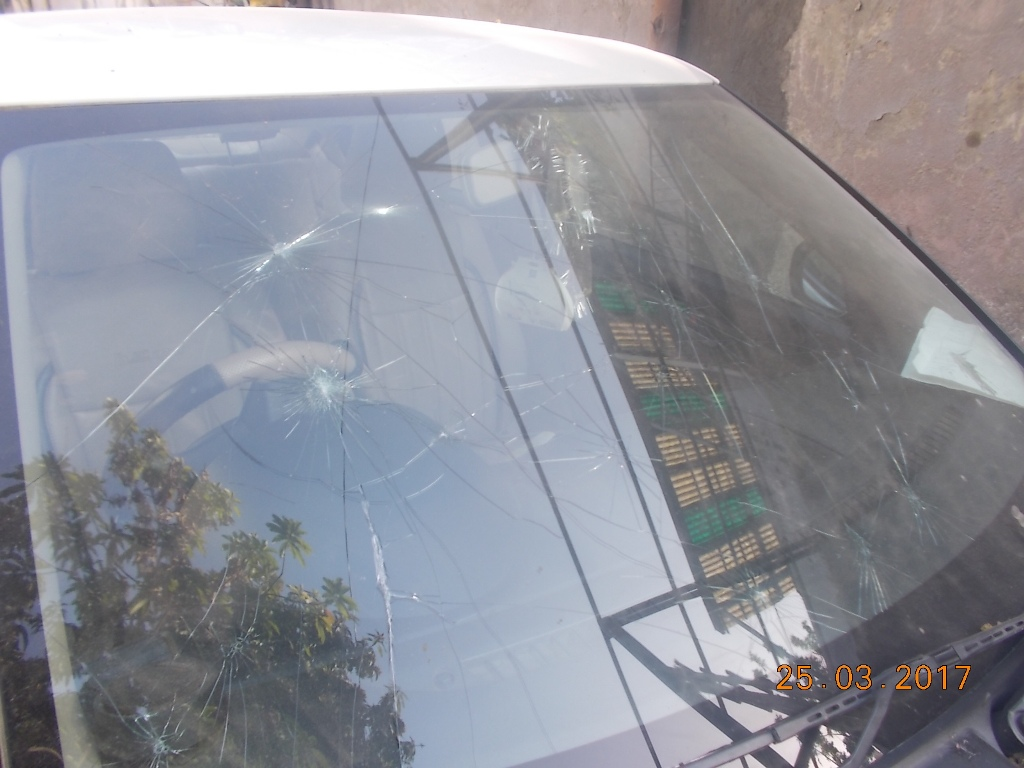Shatter: (819, 339, 929, 431), (205, 586, 295, 689), (643, 276, 735, 373), (820, 507, 904, 608), (238, 202, 336, 288), (285, 352, 357, 446), (908, 468, 957, 554), (739, 261, 780, 337), (135, 718, 195, 764)
